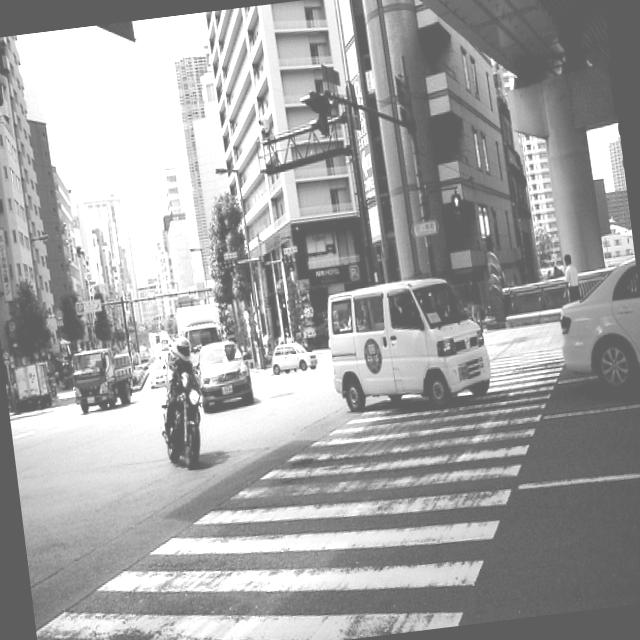Vehicle: (322, 271, 494, 421), (550, 254, 640, 399), (152, 360, 219, 470), (68, 341, 137, 412), (189, 339, 254, 414), (172, 288, 225, 352), (268, 340, 320, 376), (148, 357, 166, 388), (160, 338, 169, 350)
